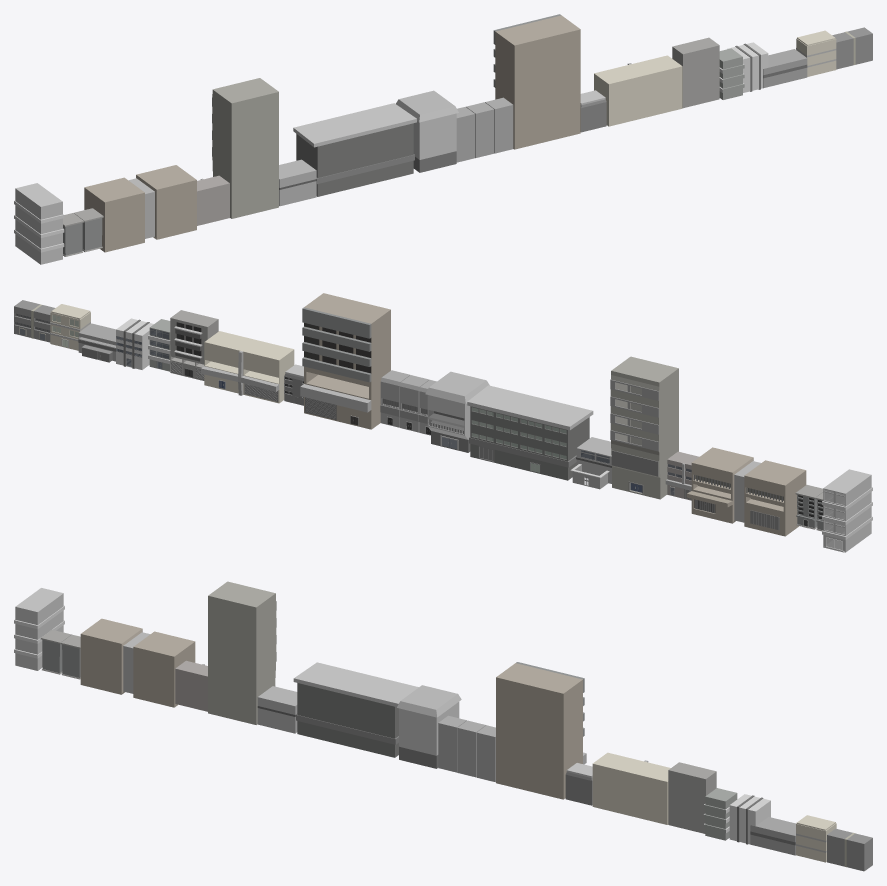
The model's file is Buildings.glb.
The picture shows the model from 3 angles, top to bottom: view 1: azimuth 30°, elevation 25°; view 2: azimuth 150°, elevation 25°; view 3: azimuth 330°, elevation 25°; orthographic projection.
Visible parts, largest first — view 1: Building9-convcol, Building12-convcol, Building14-convcol, Building16-convcol, Building7-convcol, Building11-convcol, Building18-convcol, Building10-convcol, Building6-convcol, Building17-convcol, Building13-convcol, Building15-convcol (+6 smaller); view 2: Building9-convcol, Building14-convcol, Building12-convcol, Building16-convcol, Building7-convcol, Building18-convcol, Building11-convcol, Building10-convcol, Building6-convcol, Building4-convcol, Building2-convcol, Building1-convcol (+7 smaller); view 3: Building9-convcol, Building14-convcol, Building12-convcol, Building16-convcol, Building7-convcol, Building11-convcol, Building10-convcol, Building18-convcol, Building6-convcol, Building17-convcol, Building13-convcol, Building1-convcol (+6 smaller).
Part boxes in pixels (<box>): Building9-convcol: <box>493,14,580,149</box>; Building12-convcol: <box>293,103,416,196</box>; Building14-convcol: <box>212,78,278,218</box>; Building16-convcol: <box>84,165,196,252</box>; Building7-convcol: <box>594,55,682,126</box>; Building11-convcol: <box>396,90,458,172</box>; Building18-convcol: <box>14,183,64,264</box>; Building10-convcol: <box>456,97,513,162</box>; Building6-convcol: <box>672,37,719,108</box>; Building17-convcol: <box>63,208,103,256</box>; Building13-convcol: <box>279,159,316,206</box>; Building15-convcol: <box>197,175,229,225</box>; Building9-convcol: <box>300,293,390,429</box>; Building14-convcol: <box>610,356,678,499</box>; Building12-convcol: <box>467,385,593,480</box>; Building16-convcol: <box>686,447,806,536</box>; Building7-convcol: <box>201,331,294,403</box>; Building18-convcol: <box>822,469,872,552</box>; Building11-convcol: <box>425,371,489,452</box>; Building10-convcol: <box>380,370,436,435</box>; Building6-convcol: <box>170,310,218,380</box>; Building4-convcol: <box>116,318,153,369</box>; Building2-convcol: <box>50,304,90,350</box>; Building1-convcol: <box>14,300,55,342</box>; Building9-convcol: <box>496,662,586,799</box>; Building14-convcol: <box>208,581,276,724</box>; Building12-convcol: <box>293,662,418,757</box>; Building16-convcol: <box>80,618,195,707</box>; Building7-convcol: <box>592,752,670,824</box>; Building11-convcol: <box>397,685,461,768</box>; Building10-convcol: <box>438,715,495,782</box>; Building18-convcol: <box>14,588,64,670</box>; Building6-convcol: <box>668,762,716,833</box>; Building17-convcol: <box>40,629,80,679</box>; Building13-convcol: <box>257,686,297,733</box>; Building1-convcol: <box>827,828,872,871</box>.
Size of the model in its own units: 226 by 30.86 by 13.57.
